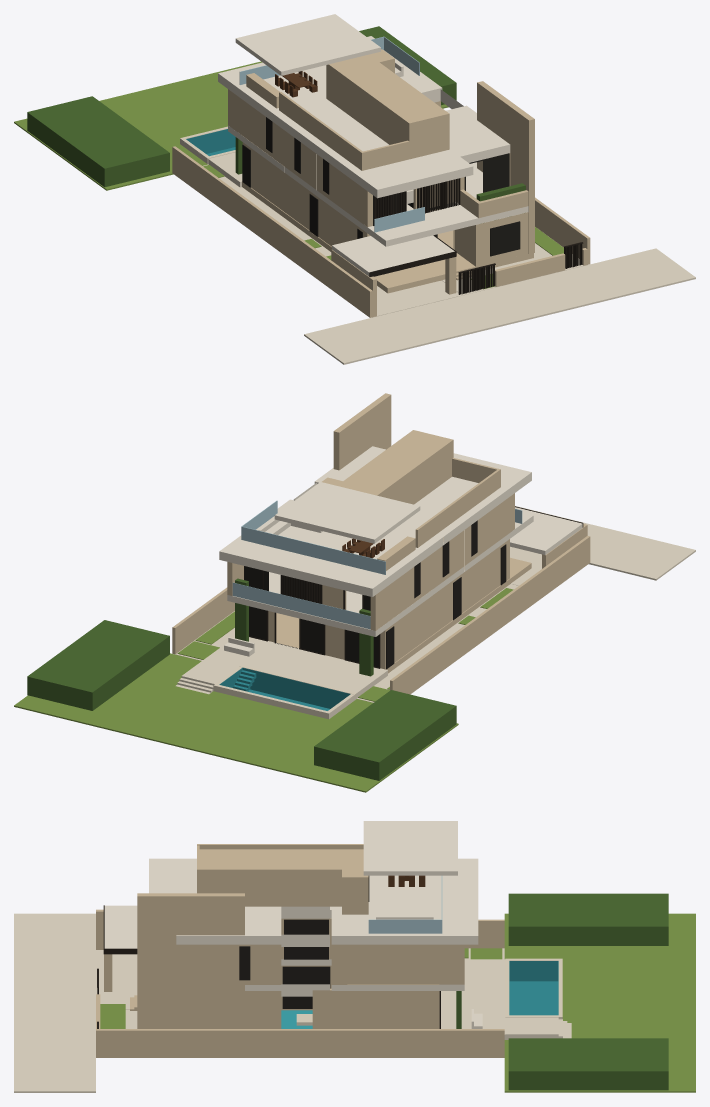
Rendered from villa_v15.glb.
The picture shows the model from 3 angles, top to bottom: view 1: azimuth 30°, elevation 25°; view 2: azimuth 150°, elevation 25°; view 3: azimuth 270°, elevation 25°; orthographic projection. The views are drawn at different scales.
Parts seen in each view (by area): view 1: GROUND_street_verge, HEDGE_context_rear_left, RF_core, CONTEXT_lawn_beyond_plot (NOT PLOT), WALL_side_left, RF_canopy, ROOF_f, STONE_FIN (render-sourced, not on plan), ROOF_r, GF_plinth, CARPORT_canopy (render-sourced, not on plan), SLAB_FF_front_ext (+26 smaller); view 2: CONTEXT_lawn_beyond_plot (NOT PLOT), HEDGE_context_rear_right, HEDGE_context_rear_left, ROOF_r, WALL_side_left, RF_canopy, RF_core, DECK_rear_strip, GROUND_street_verge, STONE_FIN (render-sourced, not on plan), ROOF_f, RF_balustrade_rear (+26 smaller); view 3: CONTEXT_lawn_beyond_plot (NOT PLOT), GROUND_street_verge, WALL_side_right, STONE_FIN (render-sourced, not on plan), HEDGE_context_rear_left, HEDGE_context_rear_right, RF_core, ROOF_r, RF_canopy, FF_rear, FF_front, GF_rear (+23 smaller).
Boxes of the visible parts, left/top/right/bottom form: GROUND_street_verge: left=304, top=248, right=695, bottom=364; HEDGE_context_rear_left: left=27, top=96, right=169, bottom=187; RF_core: left=326, top=54, right=449, bottom=159; CONTEXT_lawn_beyond_plot (NOT PLOT): left=14, top=61, right=448, bottom=190; WALL_side_left: left=172, top=146, right=372, bottom=317; RF_canopy: left=235, top=14, right=380, bottom=75; ROOF_f: left=313, top=129, right=473, bottom=198; STONE_FIN (render-sourced, not on plan): left=477, top=81, right=534, bottom=254; ROOF_r: left=218, top=36, right=442, bottom=133; GF_plinth: left=242, top=182, right=533, bottom=293; CARPORT_canopy (render-sourced, not on plan): left=332, top=235, right=454, bottom=276; SLAB_FF_front_ext: left=368, top=205, right=528, bottom=246; CONTEXT_lawn_beyond_plot (NOT PLOT): left=14, top=653, right=458, bottom=792; HEDGE_context_rear_right: left=27, top=620, right=169, bottom=710; HEDGE_context_rear_left: left=314, top=690, right=456, bottom=780; ROOF_r: left=219, top=499, right=443, bottom=596; WALL_side_left: left=390, top=535, right=590, bottom=694; RF_canopy: left=274, top=482, right=420, bottom=543; RF_core: left=337, top=430, right=453, bottom=504; DECK_rear_strip: left=208, top=637, right=387, bottom=697; GROUND_street_verge: left=515, top=506, right=695, bottom=580; STONE_FIN (render-sourced, not on plan): left=333, top=393, right=391, bottom=470; ROOF_f: left=414, top=453, right=531, bottom=526; RF_balustrade_rear: left=241, top=526, right=385, bottom=574; CONTEXT_lawn_beyond_plot (NOT PLOT): left=504, top=913, right=695, bottom=1092; GROUND_street_verge: left=14, top=913, right=95, bottom=1092; WALL_side_right: left=96, top=1029, right=504, bottom=1057; STONE_FIN (render-sourced, not on plan): left=137, top=893, right=244, bottom=1028; HEDGE_context_rear_left: left=508, top=893, right=668, bottom=945; HEDGE_context_rear_right: left=508, top=1038, right=668, bottom=1090; RF_core: left=197, top=849, right=363, bottom=906; ROOF_r: left=331, top=858, right=478, bottom=944; RF_canopy: left=363, top=821, right=457, bottom=875; FF_rear: left=331, top=944, right=439, bottom=984; FF_front: left=184, top=944, right=281, bottom=984; GF_rear: left=347, top=991, right=439, bottom=1028.
Size of what is drawn, in the model's own units: 30.73 by 13.05 by 49.89.
